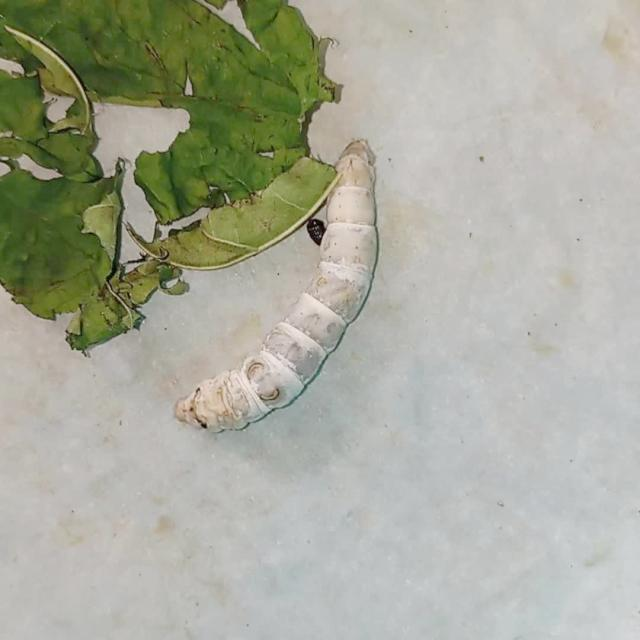Grasserie: (164, 109, 402, 466)
